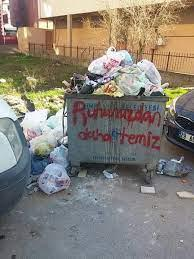Container: (60, 93, 169, 185), (65, 96, 172, 163)
Garbage: (67, 44, 165, 94), (23, 108, 62, 142), (41, 167, 74, 200), (139, 56, 165, 94), (160, 155, 190, 185), (67, 69, 105, 92), (116, 67, 149, 93), (89, 50, 118, 75), (92, 78, 127, 98), (48, 113, 66, 145), (30, 151, 53, 175), (36, 135, 54, 156), (51, 150, 68, 171), (102, 168, 130, 180), (117, 50, 137, 65)
